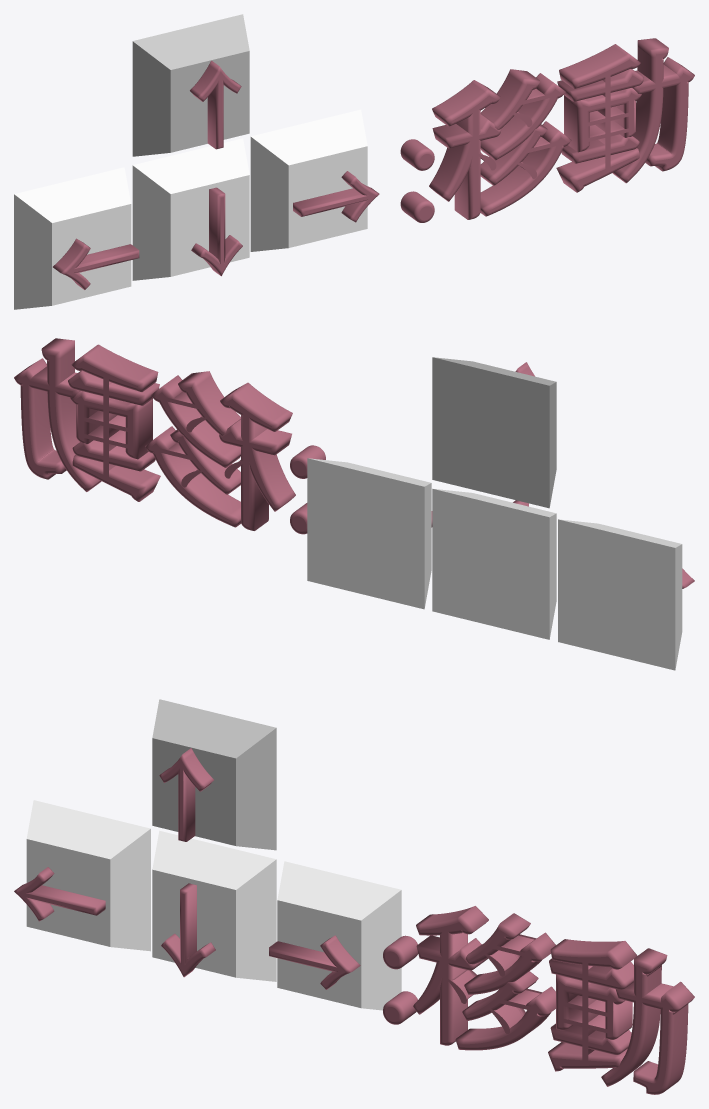
File: MoveExplanation.obj
3 views of the same model, one above another, from view 1: azimuth 30°, elevation 25°; view 2: azimuth 150°, elevation 25°; view 3: azimuth 330°, elevation 25° (orthographic). The views are drawn at different scales.
Parts seen in each view (by area): view 1: テキスト.018, テキスト.016, テキスト.015, テキスト.013, テキスト.014, テキスト.066, テキスト.063, テキスト.057, テキスト.060, テキスト.064, テキスト.067, テキスト.061 (+1 smaller); view 2: テキスト.018, テキスト.015, テキスト.016, テキスト.014, テキスト.013; view 3: テキスト.018, テキスト.013, テキスト.015, テキスト.014, テキスト.016, テキスト.063, テキスト.066, テキスト.057, テキスト.060.
Boxes of the visible parts, box(x1,y1,x2,y2) form: テキスト.018: box(400, 38, 694, 222); テキスト.016: box(250, 109, 367, 251); テキスト.015: box(132, 14, 249, 156); テキスト.013: box(14, 167, 131, 309); テキスト.014: box(132, 138, 249, 280); テキスト.066: box(190, 60, 241, 149); テキスト.063: box(191, 187, 242, 276); テキスト.057: box(293, 171, 379, 222); テキスト.060: box(53, 238, 139, 289); テキスト.064: box(204, 197, 240, 272); テキスト.067: box(202, 72, 239, 146); テキスト.061: box(66, 248, 137, 287); テキスト.018: box(14, 338, 325, 534); テキスト.015: box(432, 357, 556, 508); テキスト.016: box(307, 458, 431, 609); テキスト.014: box(432, 488, 556, 639); テキスト.013: box(558, 519, 682, 670); テキスト.018: box(383, 906, 694, 1094); テキスト.013: box(26, 800, 150, 951); テキスト.015: box(152, 699, 276, 850); テキスト.014: box(152, 830, 276, 981); テキスト.016: box(277, 861, 401, 1010); テキスト.063: box(161, 883, 215, 977); テキスト.066: box(159, 748, 213, 841); テキスト.057: box(269, 935, 360, 989); テキスト.060: box(14, 867, 105, 921).
Bounding box in the file's own units: 1.8 × 0.6399 × 0.1782.
